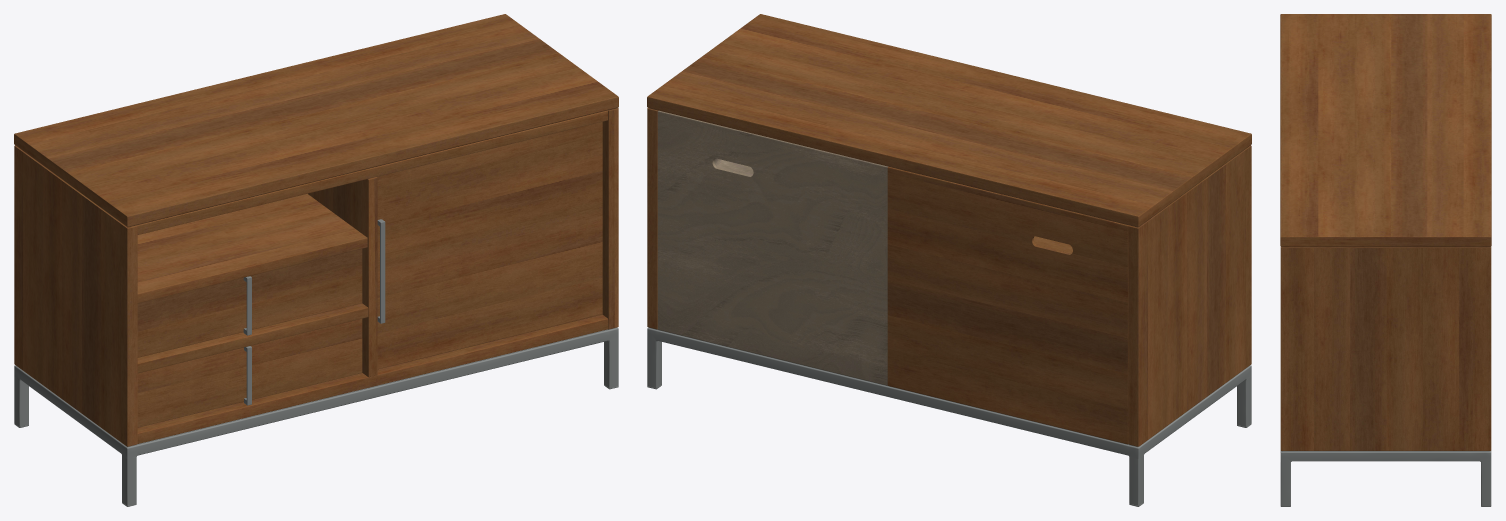
3 views of the same model, side by side, from view 1: azimuth 30°, elevation 25°; view 2: azimuth 150°, elevation 25°; view 3: azimuth 270°, elevation 25° (orthographic). The views are drawn at different scales.
Visible parts, largest first — view 1: 2_media\gen\BZO\f\d\6\jlev8-jukswmmrkicdg__r2__.bzo_3, 1_media\gen\BZO\f\d\6\jlev8-jukswmmrkicdg__r2__.bzo_2, 0_media\gen\BZO\f\d\6\jlev8-jukswmmrkicdg__r2__.bzo_1; view 2: 2_media\gen\BZO\f\d\6\jlev8-jukswmmrkicdg__r2__.bzo_3, 3_media\gen\BZO\f\d\6\jlev8-jukswmmrkicdg__r2__.bzo_4, 1_media\gen\BZO\f\d\6\jlev8-jukswmmrkicdg__r2__.bzo_2; view 3: 2_media\gen\BZO\f\d\6\jlev8-jukswmmrkicdg__r2__.bzo_3, 1_media\gen\BZO\f\d\6\jlev8-jukswmmrkicdg__r2__.bzo_2.
Boxes of the visible parts, bbox=[...] form: 2_media\gen\BZO\f\d\6\jlev8-jukswmmrkicdg__r2__.bzo_3: bbox=[14, 14, 618, 446]; 1_media\gen\BZO\f\d\6\jlev8-jukswmmrkicdg__r2__.bzo_2: bbox=[14, 327, 618, 506]; 0_media\gen\BZO\f\d\6\jlev8-jukswmmrkicdg__r2__.bzo_1: bbox=[243, 219, 385, 405]; 2_media\gen\BZO\f\d\6\jlev8-jukswmmrkicdg__r2__.bzo_3: bbox=[647, 14, 1251, 446]; 3_media\gen\BZO\f\d\6\jlev8-jukswmmrkicdg__r2__.bzo_4: bbox=[657, 110, 887, 385]; 1_media\gen\BZO\f\d\6\jlev8-jukswmmrkicdg__r2__.bzo_2: bbox=[647, 327, 1251, 506]; 2_media\gen\BZO\f\d\6\jlev8-jukswmmrkicdg__r2__.bzo_3: bbox=[1280, 14, 1491, 450]; 1_media\gen\BZO\f\d\6\jlev8-jukswmmrkicdg__r2__.bzo_2: bbox=[1280, 451, 1491, 506].
Size of the model in its own units: 1.27 by 0.7176 by 0.5077.
3 materials, 3 textured.
